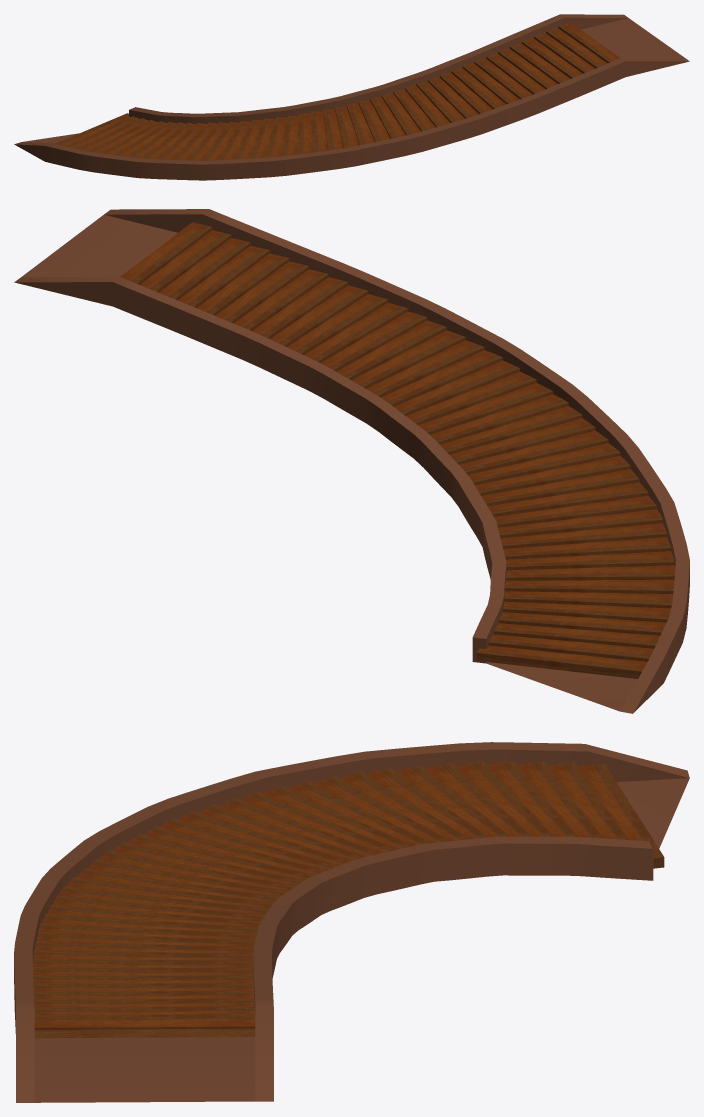
File: LongCurvedStaircase.fbx
The picture shows the model from 3 angles, top to bottom: view 1: azimuth 30°, elevation 25°; view 2: azimuth 150°, elevation 25°; view 3: azimuth 270°, elevation 25°; orthographic projection. The views are drawn at different scales.
Parts seen in each view (by area): view 1: LongStairs, LongStairsCaps; view 2: LongStairs, LongStairsCaps; view 3: LongStairs, LongStairsCaps.
Boxes of the visible parts, left/top/right/bottom form: LongStairs: left=55, top=23, right=619, bottom=160; LongStairsCaps: left=14, top=14, right=689, bottom=180; LongStairs: left=120, top=222, right=675, bottom=678; LongStairsCaps: left=14, top=209, right=689, bottom=713; LongStairs: left=32, top=761, right=664, bottom=1038; LongStairsCaps: left=14, top=742, right=689, bottom=1102.
Size of what is drawn, in the model's own units: 7653 by 1407 by 4407.
